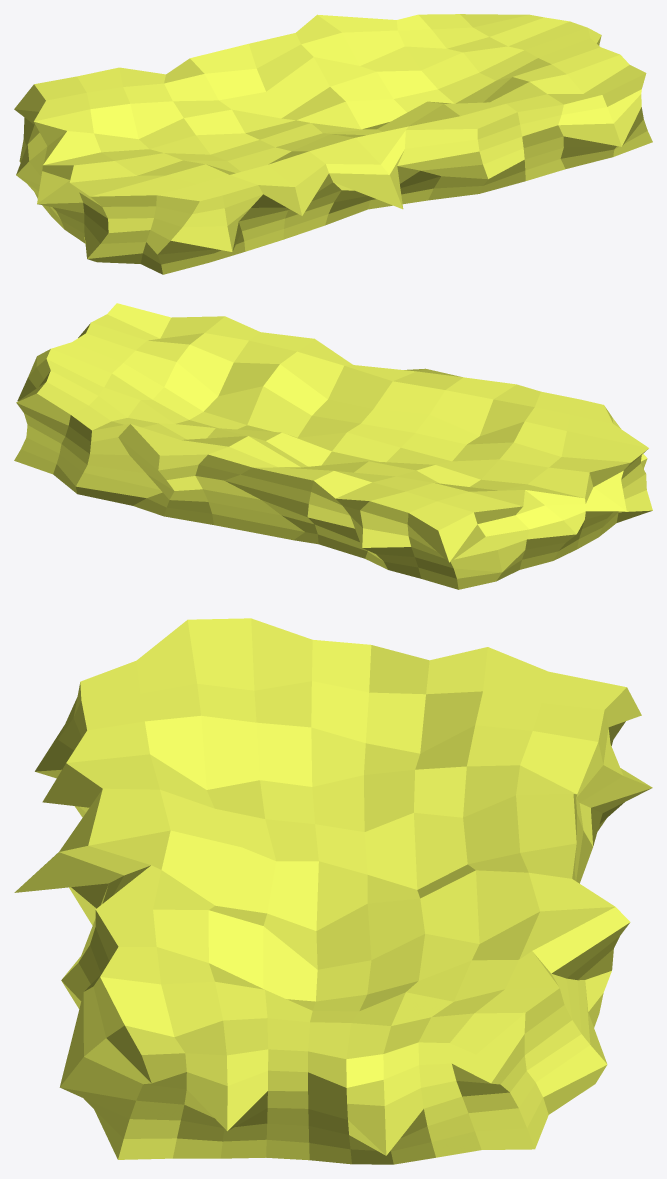
The model's file is Heybed.fbx.
3 views of the same model, one above another, from view 1: azimuth 30°, elevation 25°; view 2: azimuth 150°, elevation 25°; view 3: azimuth 270°, elevation 25° (orthographic). The views are drawn at different scales.
Visible parts, largest first — view 1: Heybed; view 2: Heybed; view 3: Heybed.
Part boxes in pixels (x1,y1,x2,y2): Heybed: [14, 14, 652, 274]; Heybed: [14, 303, 652, 589]; Heybed: [14, 618, 652, 1164].
Bounding box in the file's own units: 211 × 24.1 × 121.
1 material, 1 textured.
